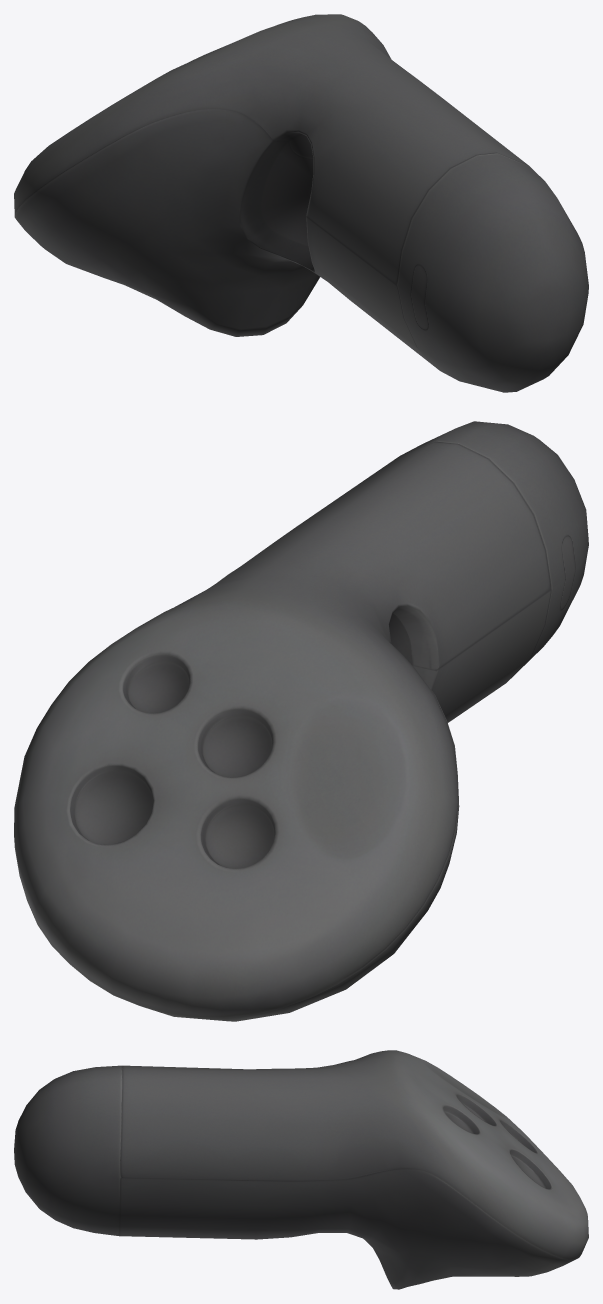
The model's file is R_body.obj.
3 views of the same model, one above another, from view 1: azimuth 30°, elevation 25°; view 2: azimuth 150°, elevation 25°; view 3: azimuth 270°, elevation 25° (orthographic). The views are drawn at different scales.
Parts seen in each view (by area): view 1: R_body; view 2: R_body; view 3: R_body.
Part boxes in pixels (box(x1,y1,x2,y2)): R_body: box(14, 14, 588, 392); R_body: box(14, 421, 588, 1021); R_body: box(14, 1050, 588, 1289).
Size of the model in its own units: 0.0633 by 0.0531 by 0.1237.
Materials: 1 (1 with a texture image).
